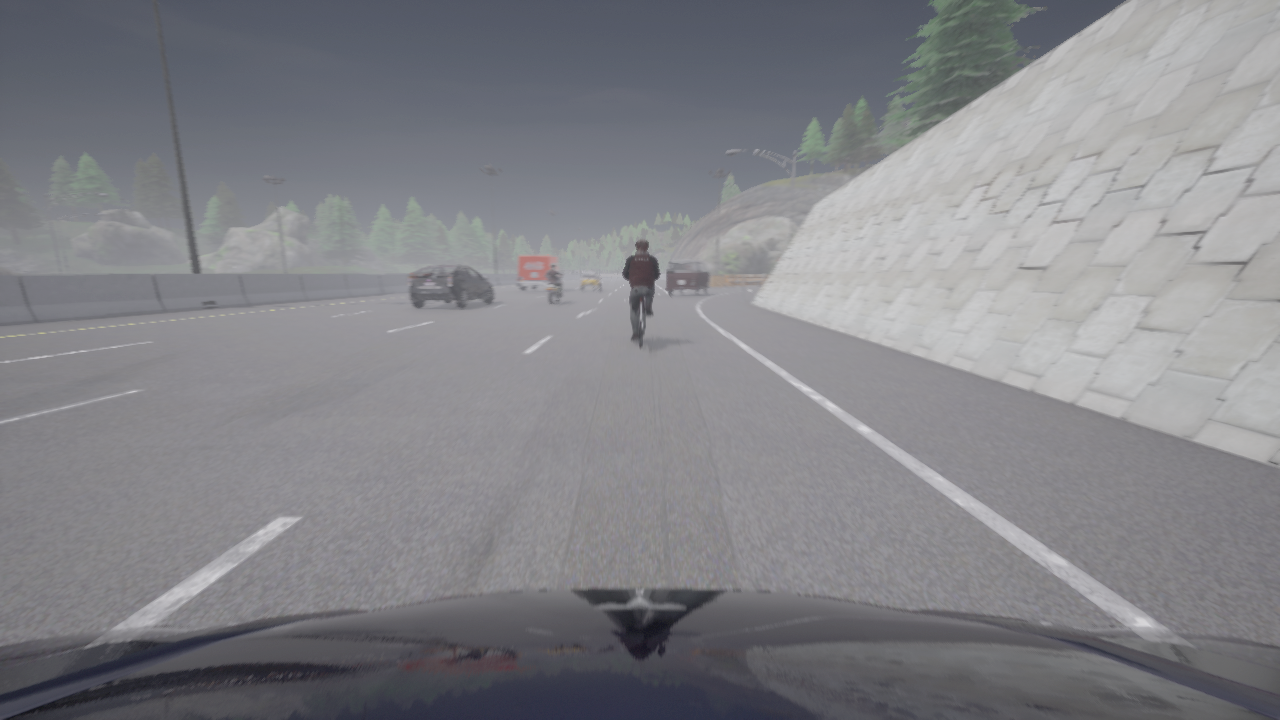cyclist: (0, 588, 1279, 719), (408, 265, 493, 307), (517, 255, 563, 290), (666, 259, 710, 295), (633, 297, 650, 347), (545, 275, 563, 303), (580, 271, 600, 290)
